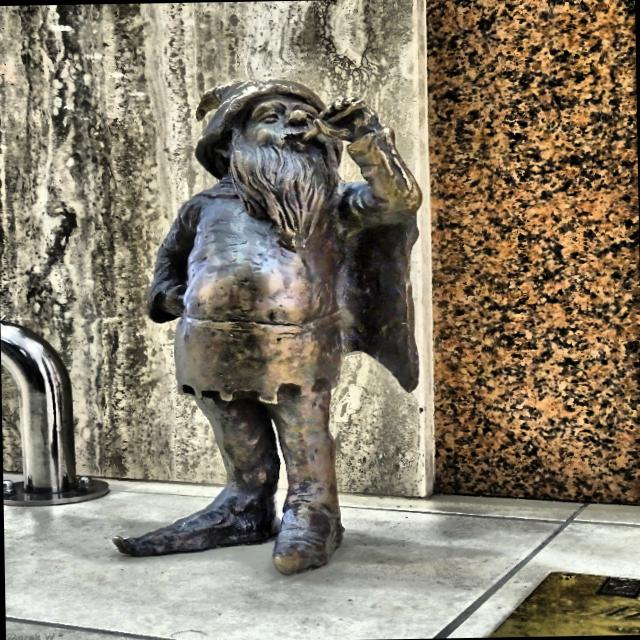Trabibrzuch: (115, 81, 422, 574)
